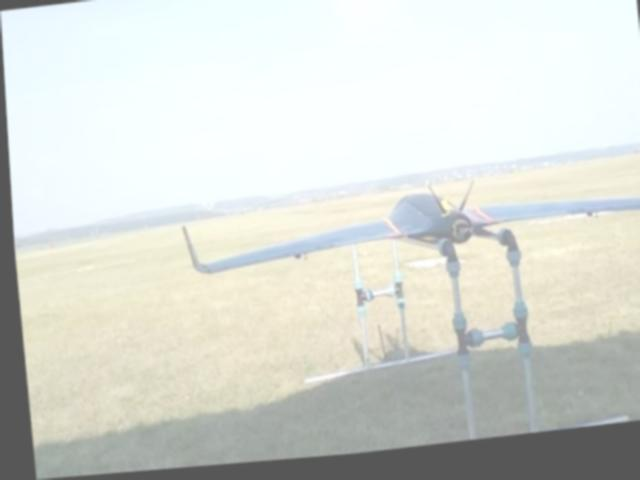iha: (177, 174, 640, 278)
